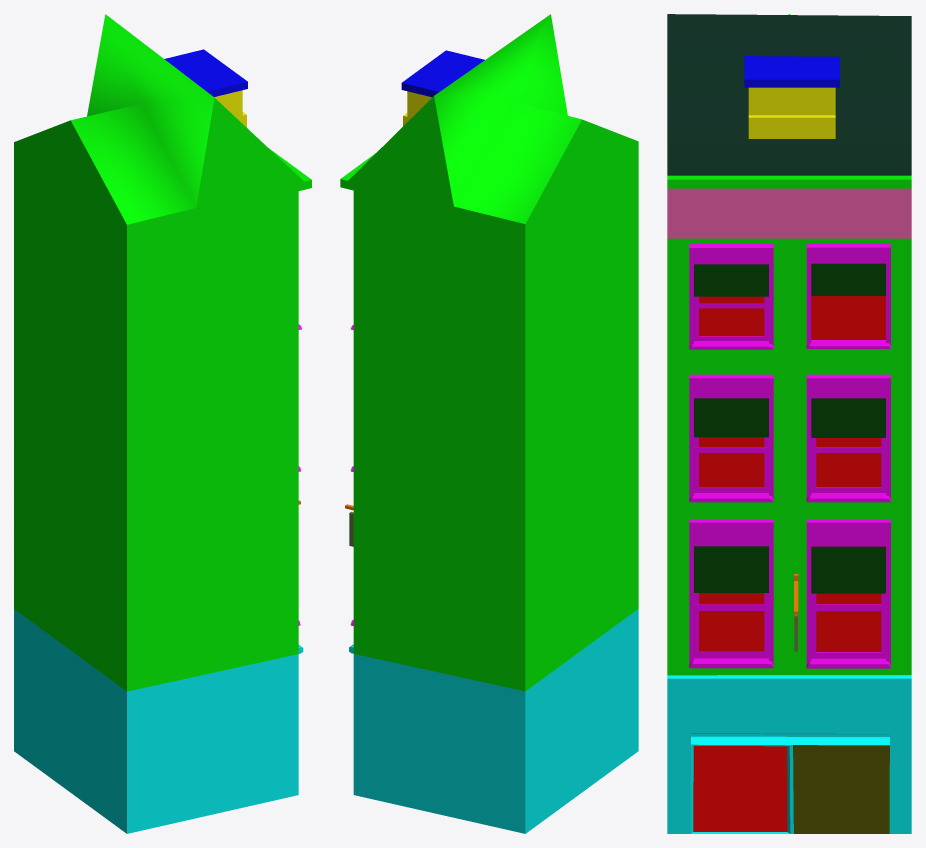
The model's file is huis5_model.obj.
The picture shows the model from 3 angles, left to right: view 1: azimuth 30°, elevation 25°; view 2: azimuth 150°, elevation 25°; view 3: azimuth 270°, elevation 25°; orthographic projection. The views are drawn at different scales.
Parts seen in each view (by area): view 1: polySurface189; view 2: polySurface189; view 3: polySurface189.
Boxes of the visible parts, left/top/right/bottom form: polySurface189: left=14, top=14, right=311, bottom=833; polySurface189: left=340, top=14, right=638, bottom=833; polySurface189: left=667, top=14, right=911, bottom=833.
Size of the model in its own units: 367 by 1082 by 309.
